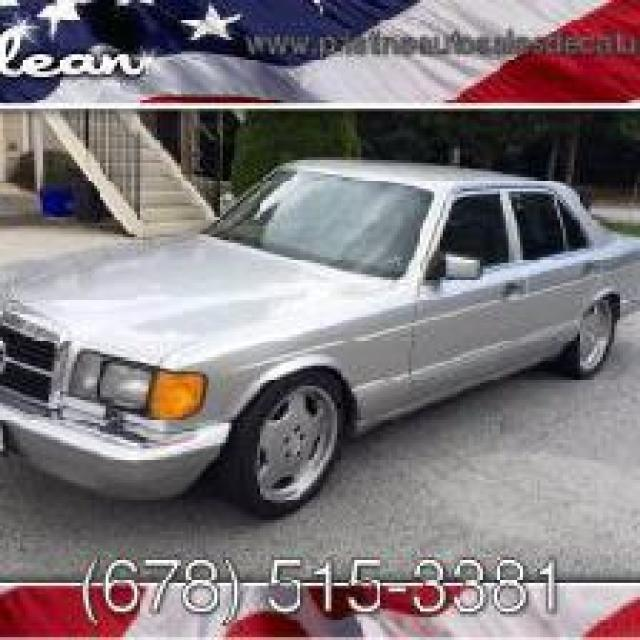damaged: (43, 392, 206, 459)
